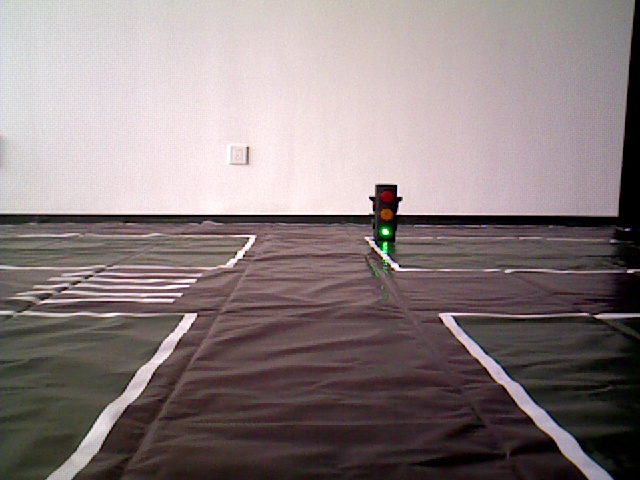green: (377, 189, 394, 241)
